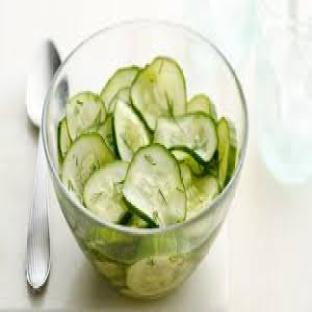Cucumber: (123, 145, 186, 226), (131, 58, 186, 131), (62, 134, 113, 202), (154, 114, 217, 163), (84, 162, 130, 222), (127, 257, 192, 297), (113, 101, 149, 161), (180, 164, 219, 219), (67, 91, 106, 141), (100, 67, 139, 111), (218, 117, 237, 187), (172, 151, 204, 176), (188, 93, 217, 120), (94, 260, 125, 285), (98, 114, 115, 154), (58, 117, 71, 161), (109, 88, 131, 113), (180, 164, 192, 191), (127, 214, 148, 228)
